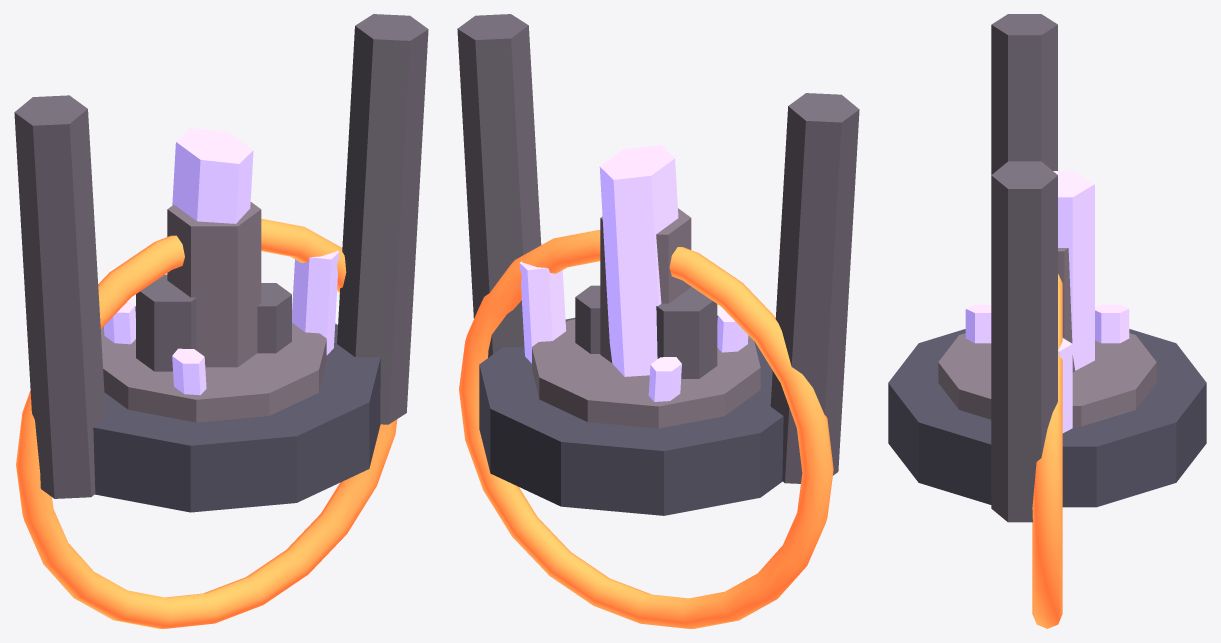
File: dragon-crater-kit.glb
The picture shows the model from 3 angles, left to right: view 1: azimuth 30°, elevation 25°; view 2: azimuth 150°, elevation 25°; view 3: azimuth 270°, elevation 25°; orthographic projection. The views are drawn at different scales.
Visible parts, largest first — view 1: AltarSpire_-1.1, AltarBase, AltarSpire_1.1, AltarLavaRing, AltarStep, RockSpire_1, AltarCore_Crystal, RockSpire_0, AltarStar_0_Crystal, RockSpire_2, AltarStar_1_Crystal, AltarStar_2_Crystal; view 2: AltarBase, AltarLavaRing, AltarSpire_-1.1, AltarSpire_1.1, AltarCore_Crystal, AltarStep, RockSpire_0, AltarStar_0_Crystal, RockSpire_1, RockSpire_2, AltarStar_2_Crystal, AltarStar_1_Crystal; view 3: AltarBase, AltarSpire_1.1, AltarSpire_-1.1, AltarStep, AltarLavaRing, AltarCore_Crystal, AltarStar_2_Crystal, AltarStar_0_Crystal, AltarStar_1_Crystal, RockSpire_1.
Part boxes in pixels (left/top/right/bottom): AltarSpire_-1.1: left=14, top=95, right=105, bottom=498; AltarBase: left=93, top=306, right=380, bottom=512; AltarSpire_1.1: left=337, top=14, right=428, bottom=424; AltarLavaRing: left=16, top=218, right=397, bottom=628; AltarStep: left=101, top=311, right=326, bottom=422; RockSpire_1: left=167, top=202, right=261, bottom=367; AltarCore_Crystal: left=172, top=128, right=253, bottom=223; RockSpire_0: left=136, top=274, right=196, bottom=371; AltarStar_0_Crystal: left=292, top=250, right=339, bottom=355; RockSpire_2: left=257, top=283, right=291, bottom=353; AltarStar_1_Crystal: left=172, top=348, right=206, bottom=395; AltarStar_2_Crystal: left=104, top=301, right=135, bottom=344; AltarBase: left=479, top=315, right=783, bottom=515; AltarLavaRing: left=459, top=230, right=833, bottom=628; AltarSpire_-1.1: left=770, top=93, right=859, bottom=483; AltarSpire_1.1: left=457, top=14, right=541, bottom=357; AltarCore_Crystal: left=599, top=145, right=678, bottom=376; AltarStep: left=532, top=319, right=760, bottom=428; RockSpire_0: left=656, top=286, right=717, bottom=378; AltarStar_0_Crystal: left=519, top=261, right=566, bottom=363; RockSpire_1: left=600, top=208, right=691, bottom=362; RockSpire_2: left=575, top=285, right=600, bottom=353; AltarStar_2_Crystal: left=648, top=357, right=681, bottom=401; AltarStar_1_Crystal: left=717, top=310, right=748, bottom=352; AltarBase: left=888, top=329, right=1206, bottom=507; AltarSpire_1.1: left=991, top=161, right=1057, bottom=522; AltarSpire_-1.1: left=991, top=14, right=1057, bottom=174; AltarStep: left=938, top=333, right=1156, bottom=426; AltarLavaRing: left=1032, top=274, right=1062, bottom=628; AltarCore_Crystal: left=1053, top=171, right=1094, bottom=370; AltarStar_2_Crystal: left=1095, top=304, right=1129, bottom=343; AltarStar_0_Crystal: left=1058, top=338, right=1072, bottom=433; AltarStar_1_Crystal: left=965, top=304, right=991, bottom=343; RockSpire_1: left=1058, top=248, right=1075, bottom=372.
Size of the model in its own units: 2.73 by 3.73 by 2.1.
